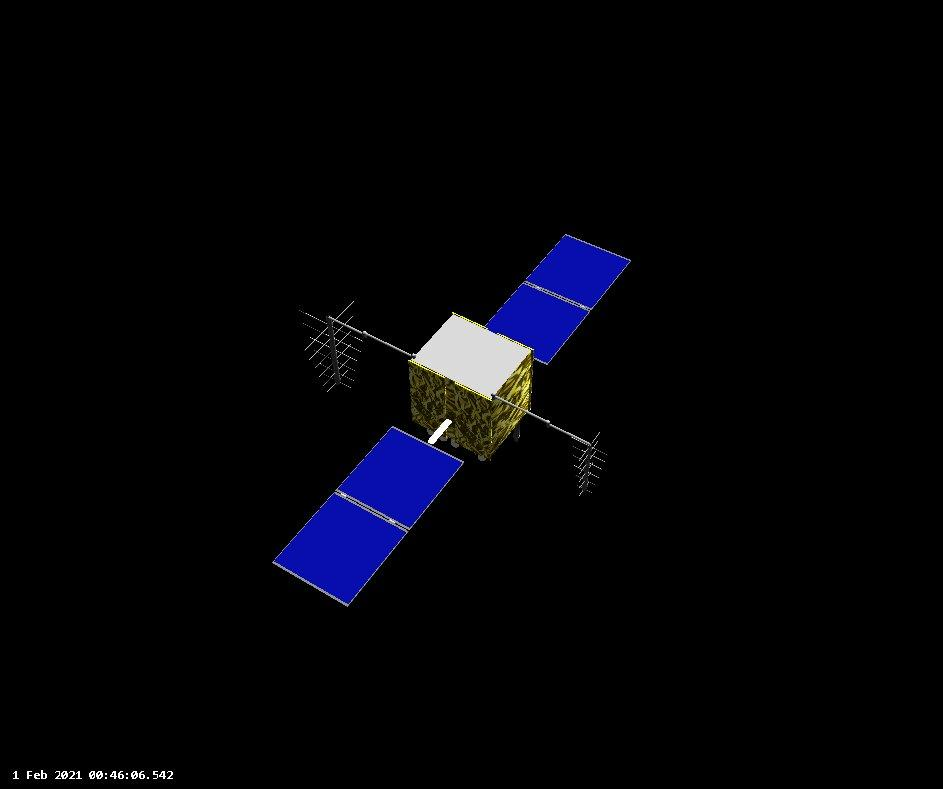antenna: (291, 294, 370, 399), (569, 421, 609, 512)
body: (404, 308, 536, 465)
solar: (265, 418, 471, 613), (482, 229, 633, 372)
